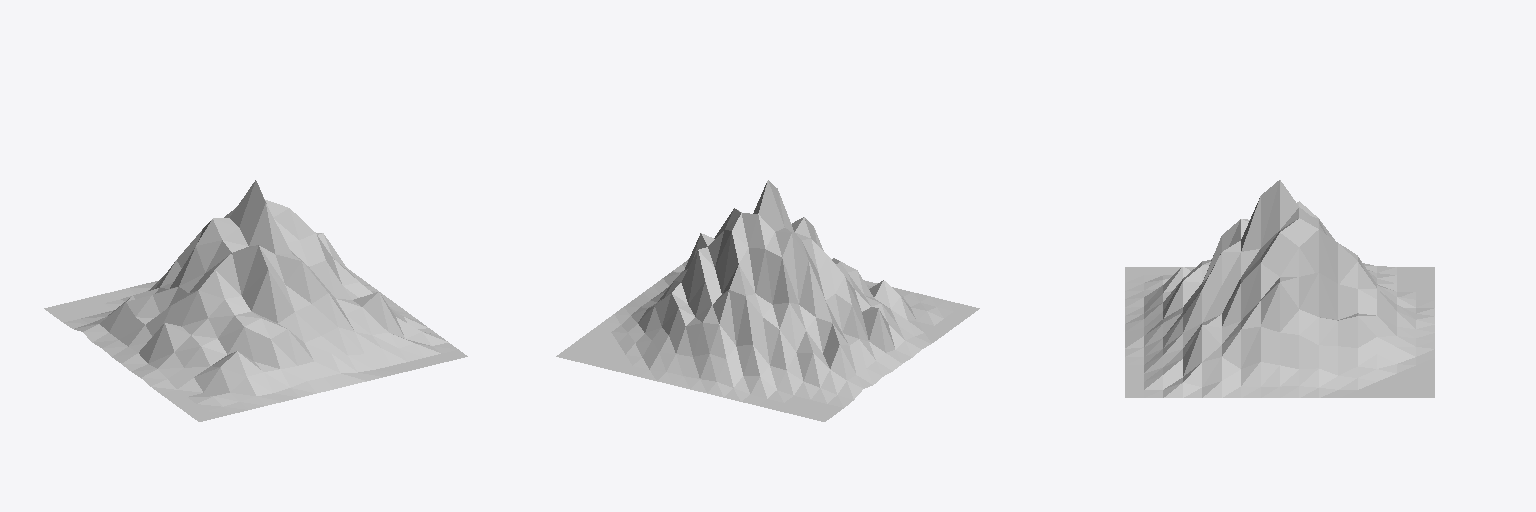
The model's file is MountainOther.obj.
3 views of the same model, side by side, from view 1: azimuth 30°, elevation 25°; view 2: azimuth 150°, elevation 25°; view 3: azimuth 270°, elevation 25° (orthographic).
Parts seen in each view (by area): view 1: Plane; view 2: Plane; view 3: Plane.
Boxes of the visible parts, <box> form: Plane: <box>44,180,467,421</box>; Plane: <box>556,180,979,421</box>; Plane: <box>1125,180,1434,397</box>.
Bounding box in the file's own units: 22.06 × 12 × 22.06.